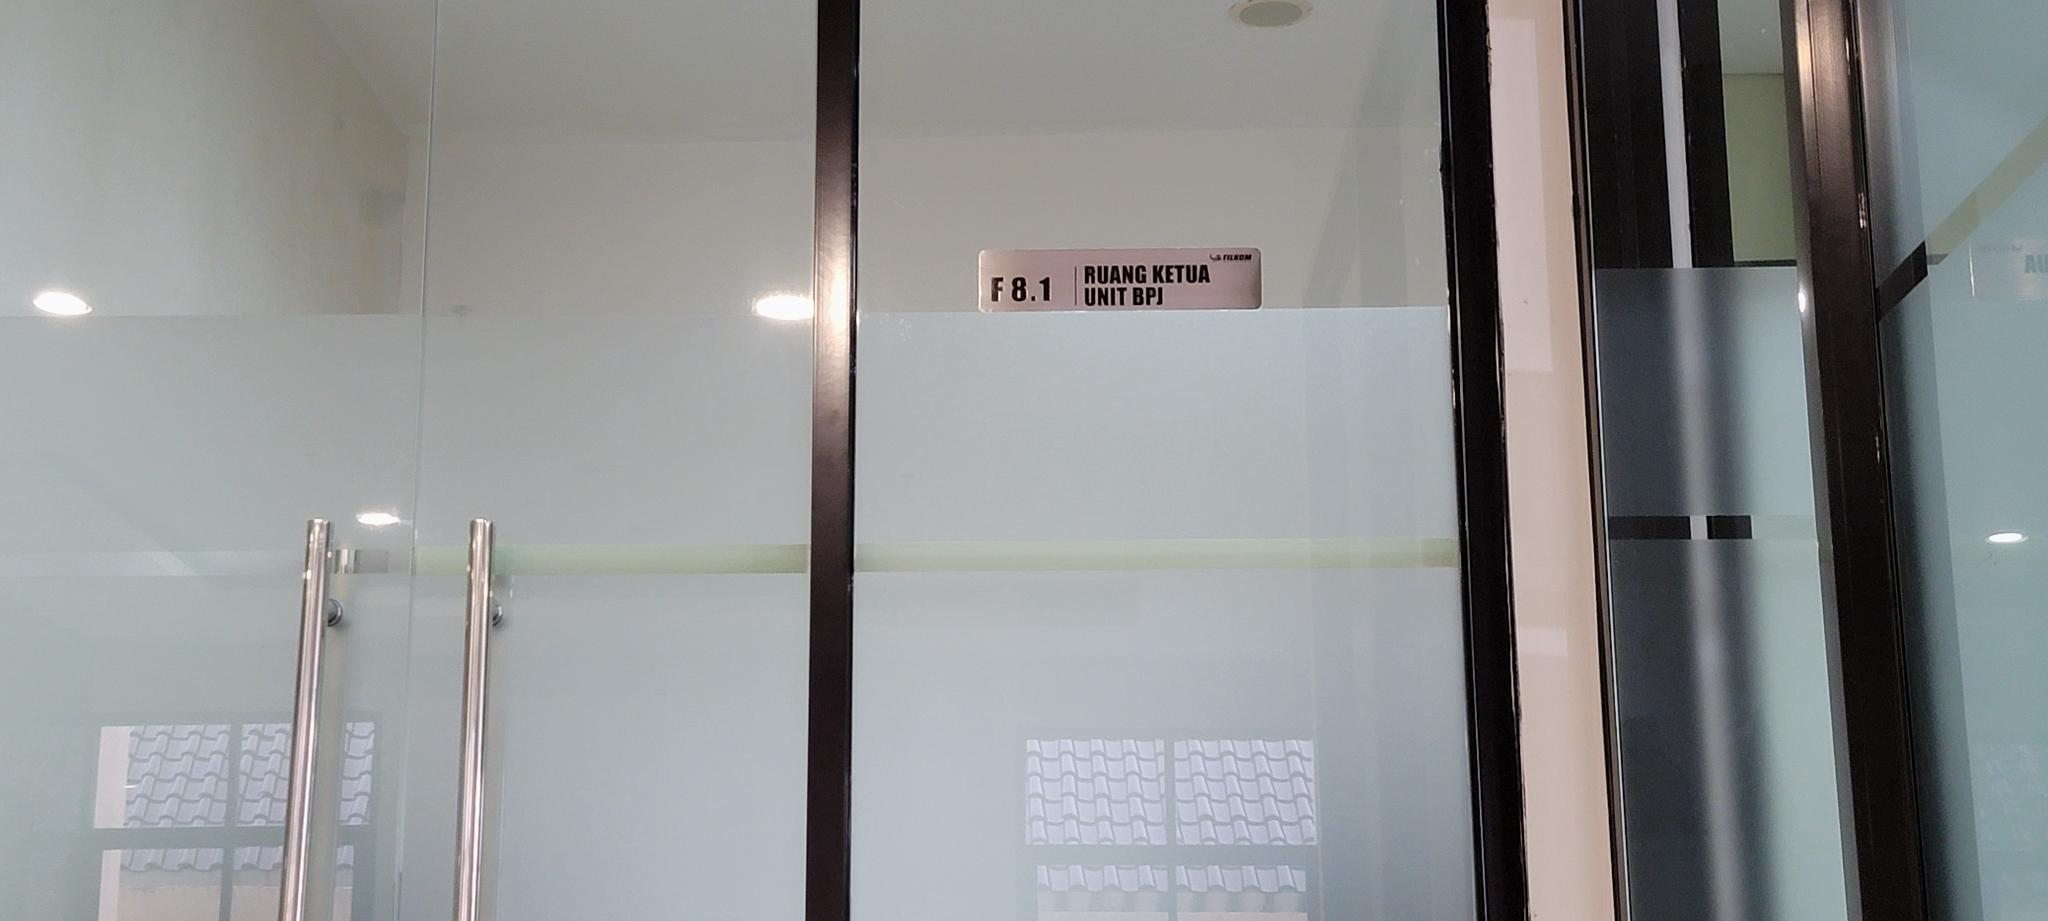plate: (973, 243, 1263, 319)
